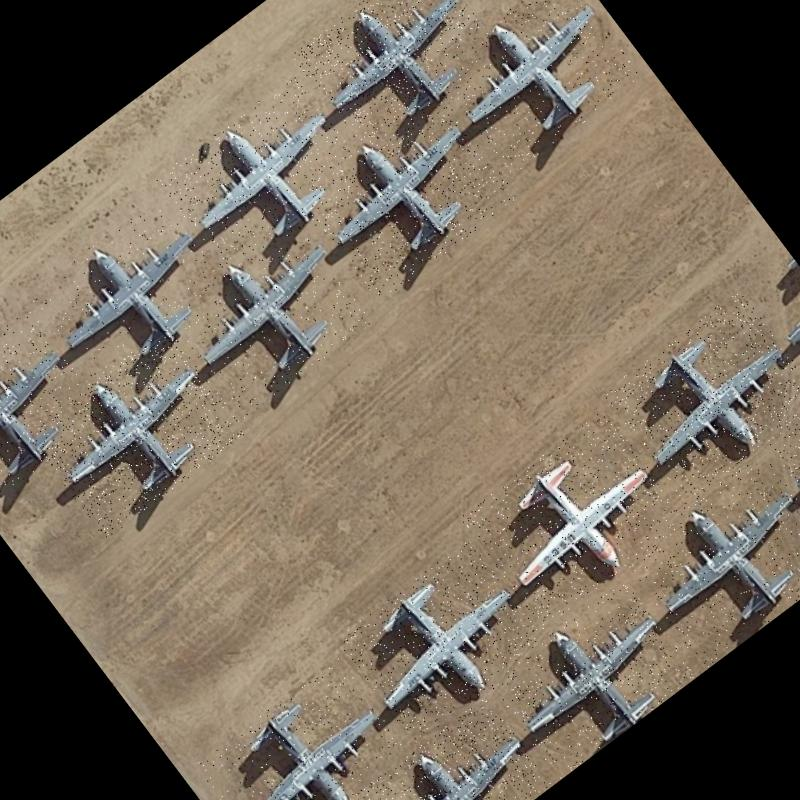A2: (460, 408, 689, 629), (25, 325, 248, 540), (297, 89, 520, 303), (155, 73, 376, 286), (336, 538, 549, 745), (162, 212, 372, 418), (602, 289, 800, 507), (486, 578, 698, 780), (27, 193, 237, 396), (617, 447, 800, 669), (431, 0, 643, 176), (291, 0, 509, 160), (191, 657, 418, 800), (0, 309, 109, 510), (343, 696, 553, 800), (760, 355, 800, 541)
